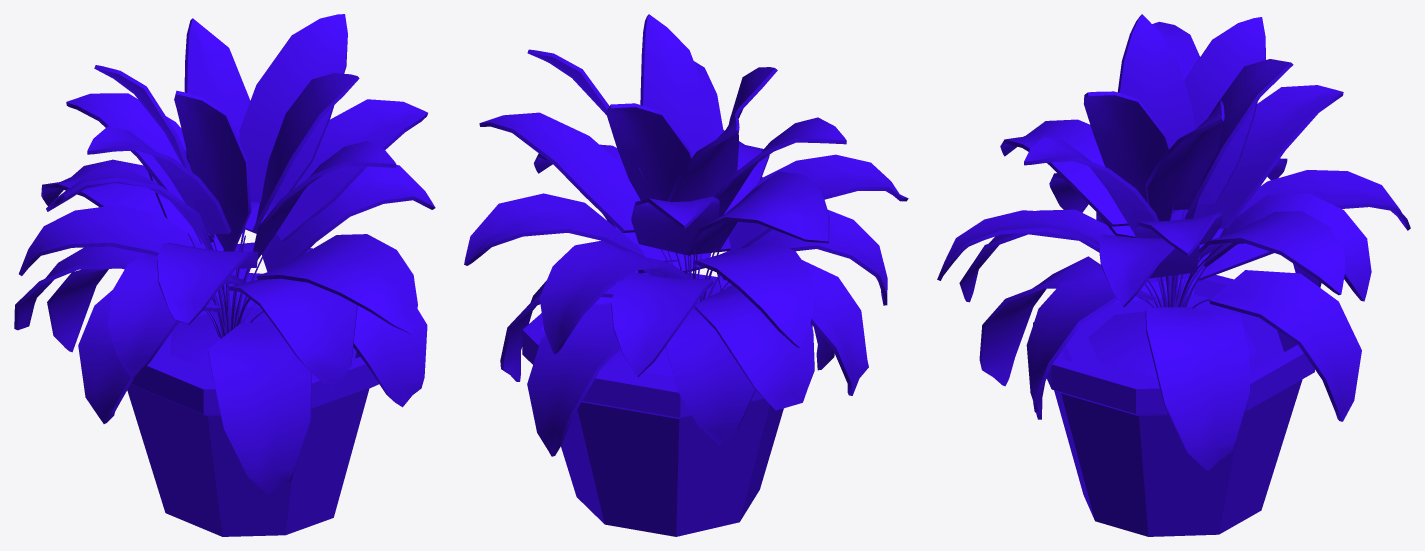
File: PlantaSuelo.fbx
The picture shows the model from 3 angles, left to right: view 1: azimuth 30°, elevation 25°; view 2: azimuth 150°, elevation 25°; view 3: azimuth 270°, elevation 25°; orthographic projection.
Parts seen in each view (by area): view 1: PlantaSuelo; view 2: PlantaSuelo; view 3: PlantaSuelo.
Boxes of the visible parts, <box> form: PlantaSuelo: <box>14,14,435,536</box>; PlantaSuelo: <box>464,14,908,536</box>; PlantaSuelo: <box>937,14,1410,536</box>.
Bounding box in the file's own units: 107 × 121 × 118.
